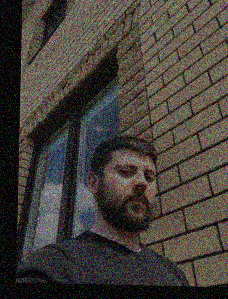without_mask: (107, 157, 157, 232)
